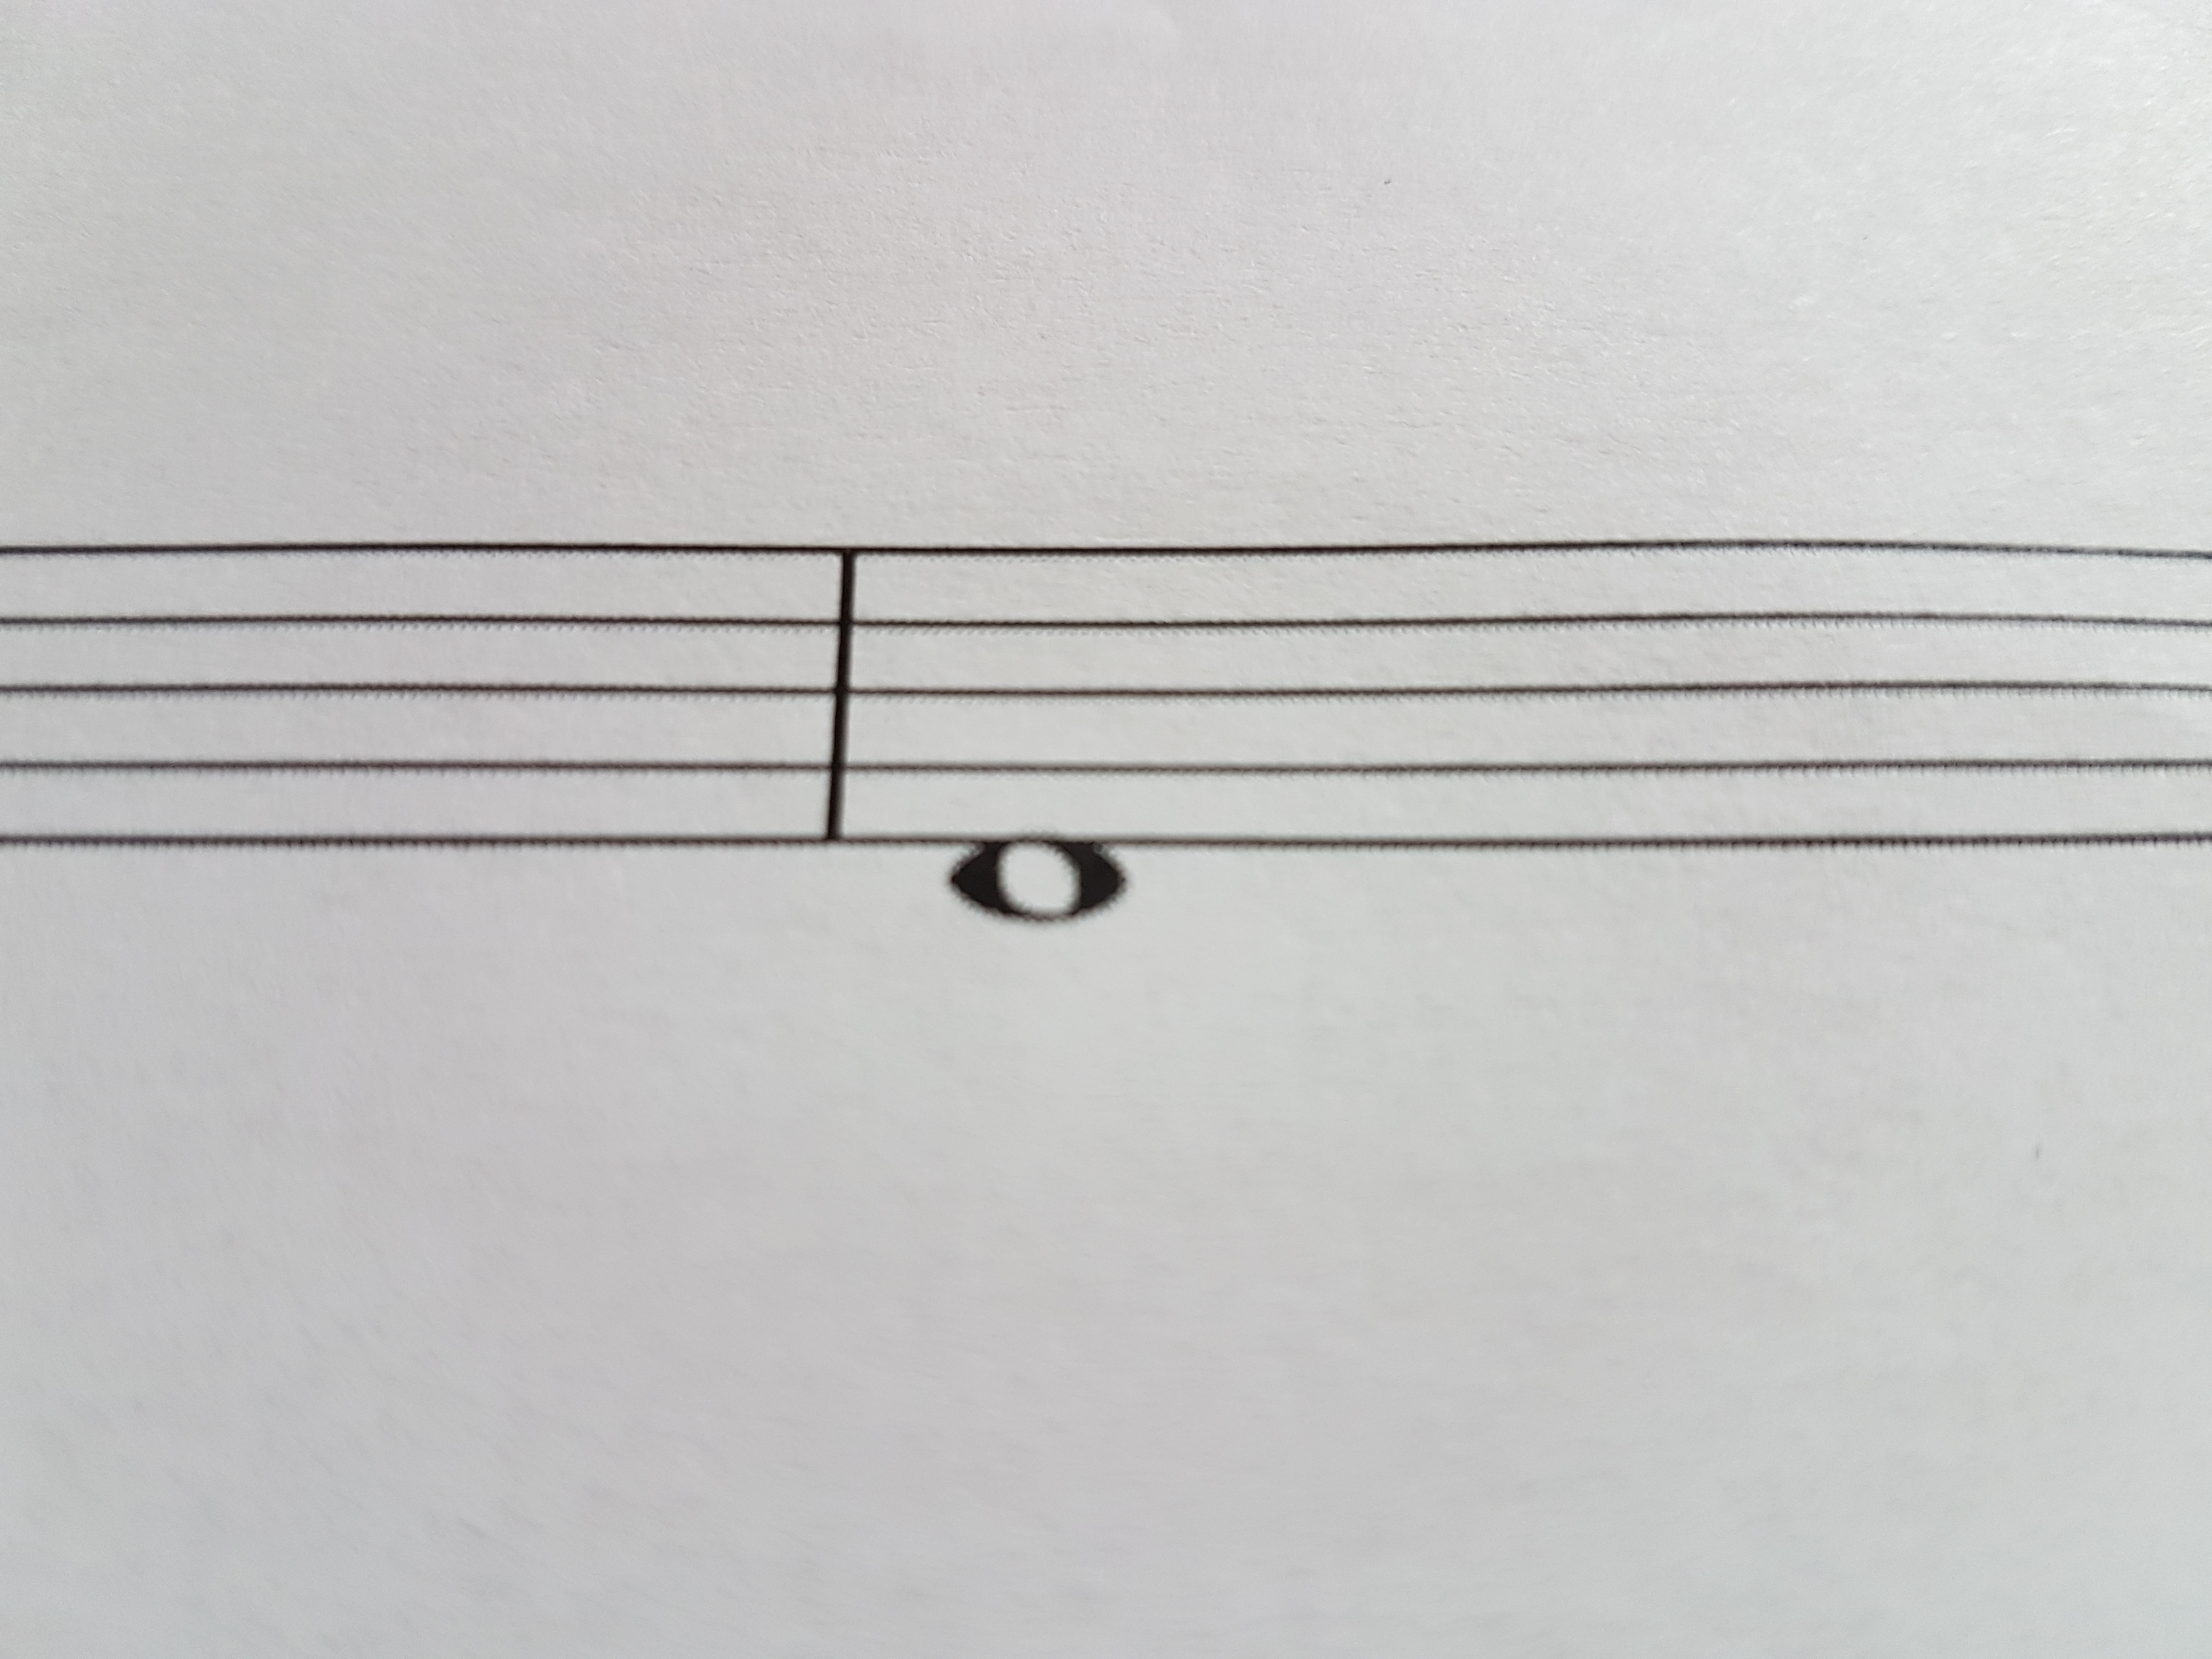pipe: (801, 509, 876, 878)
semibreve_d: (913, 437, 1151, 1042)
